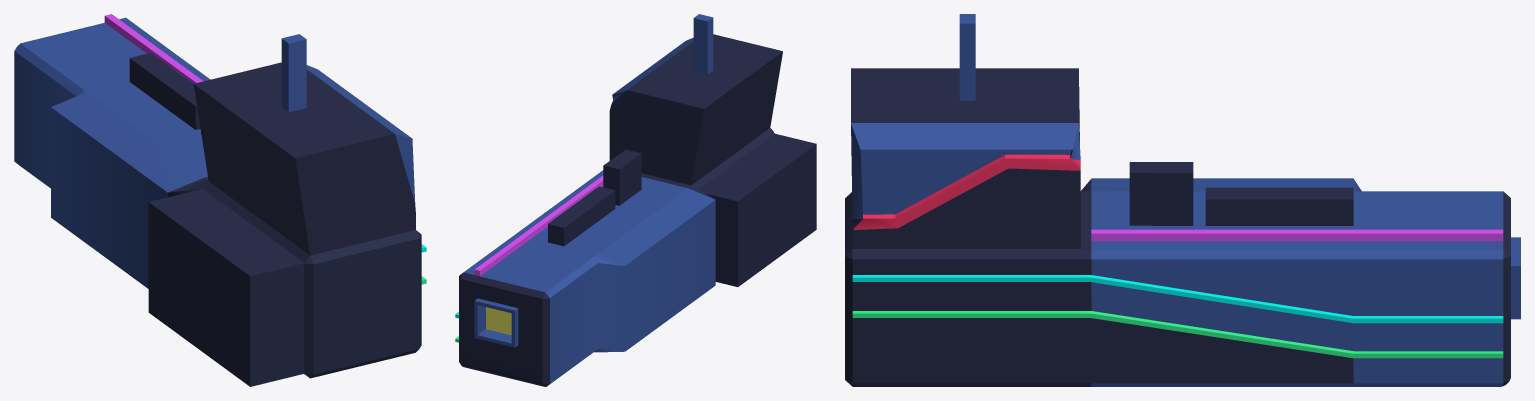
The model's file is Building4.fbx.
3 views of the same model, side by side, from view 1: azimuth 30°, elevation 25°; view 2: azimuth 150°, elevation 25°; view 3: azimuth 270°, elevation 25° (orthographic). The views are drawn at different scales.
Visible parts, largest first — view 1: pCube1; view 2: pCube1; view 3: pCube1.
Part boxes in pixels (x1,y1,x2,y2): pCube1: (14,14,426,386); pCube1: (455,14,816,386); pCube1: (845,14,1520,386).
Bounding box in the file's own units: 120 × 191 × 356.
